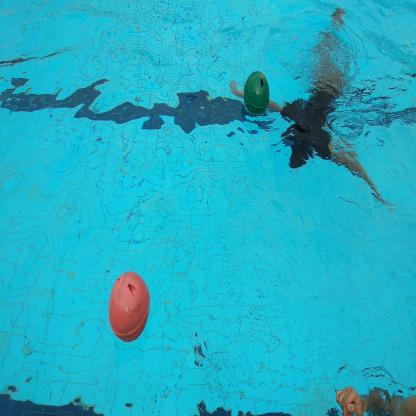green_buoy: (242, 68, 272, 118)
red_buoy: (104, 267, 154, 348)
